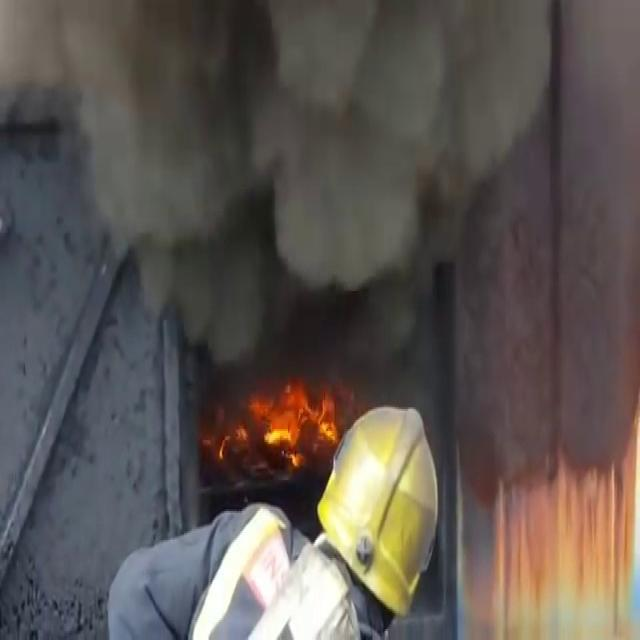Fire: (218, 364, 342, 462)
Smoke: (0, 0, 579, 322)
